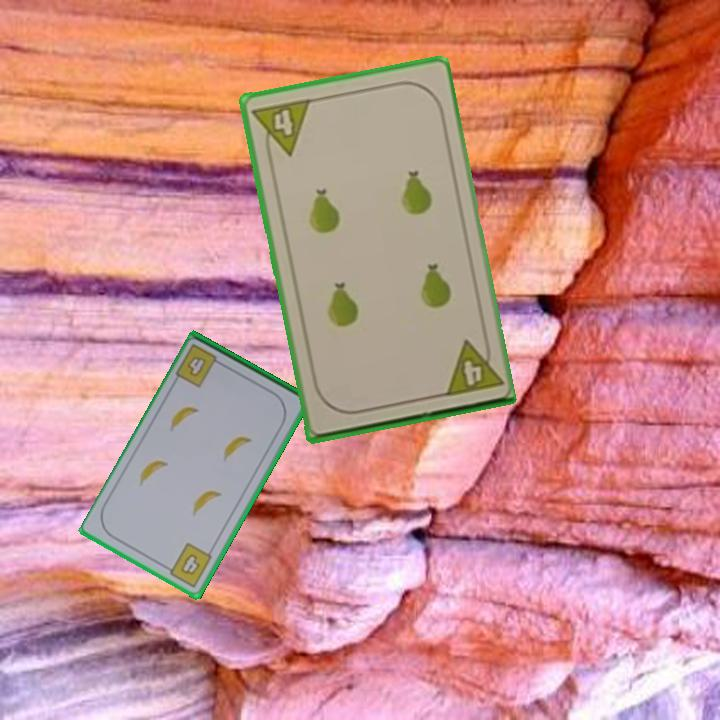4b: (161, 539, 215, 590), (172, 340, 227, 390)
4p: (249, 95, 313, 162), (439, 334, 504, 399)
